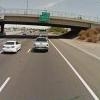Bridge: (4, 5, 91, 34)
